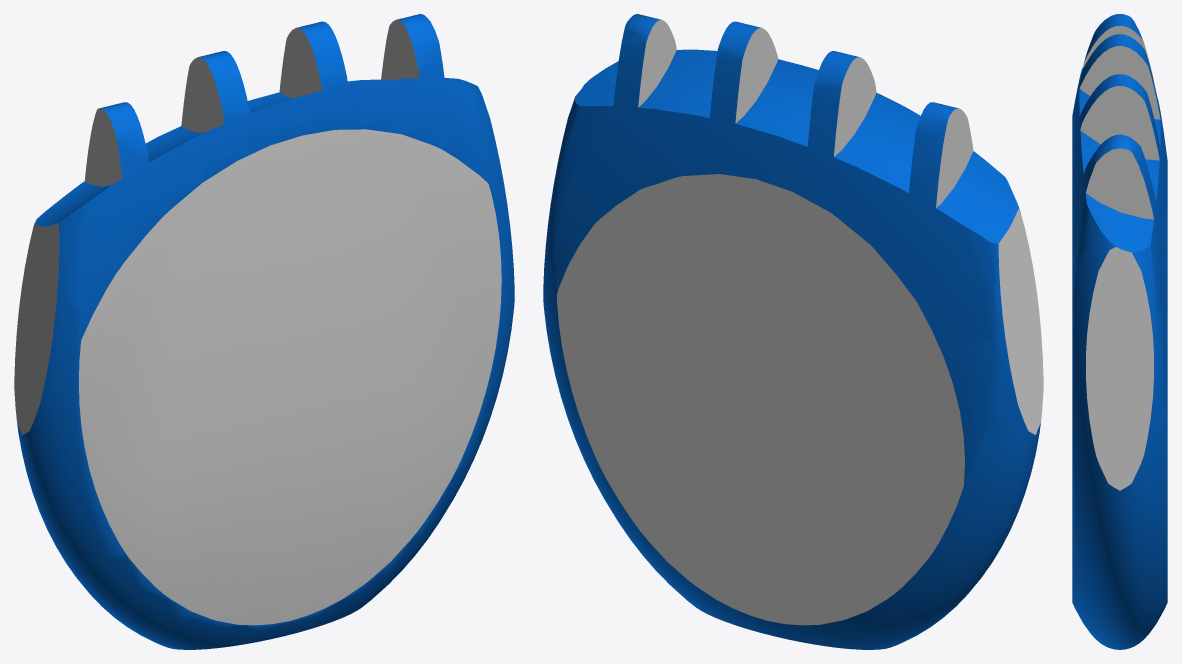
The model's file is palm-left.glb.
The picture shows the model from 3 angles, left to right: view 1: azimuth 30°, elevation 25°; view 2: azimuth 150°, elevation 25°; view 3: azimuth 270°, elevation 25°; orthographic projection. The views are drawn at different scales.
Parts seen in each view (by area): view 1: EndPhalange; view 2: EndPhalange; view 3: EndPhalange.
Boxes of the visible parts, x1,y1,x2,y2 form: EndPhalange: (14,14,514,649); EndPhalange: (543,14,1043,649); EndPhalange: (1072,14,1167,649).
Bounding box in the file's own units: 1.65 × 1.89 × 0.299.
